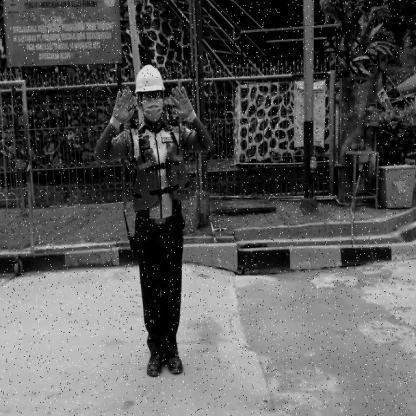boots: (146, 349, 166, 380), (166, 352, 184, 378)
gloves: (108, 88, 136, 134), (167, 85, 198, 126)
goggles: (142, 92, 164, 100)
helmet: (134, 63, 166, 92)
mask: (142, 100, 164, 122)
vest: (130, 143, 194, 213)
